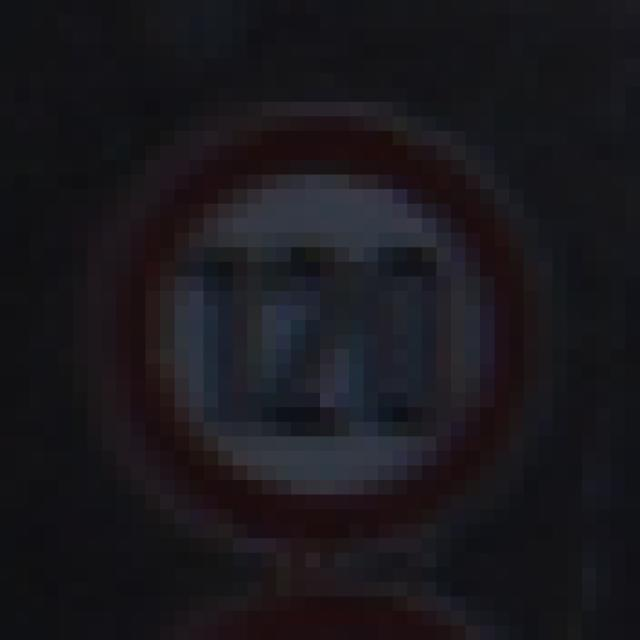Ograniczenie predkosci do 120: (87, 100, 550, 558)
